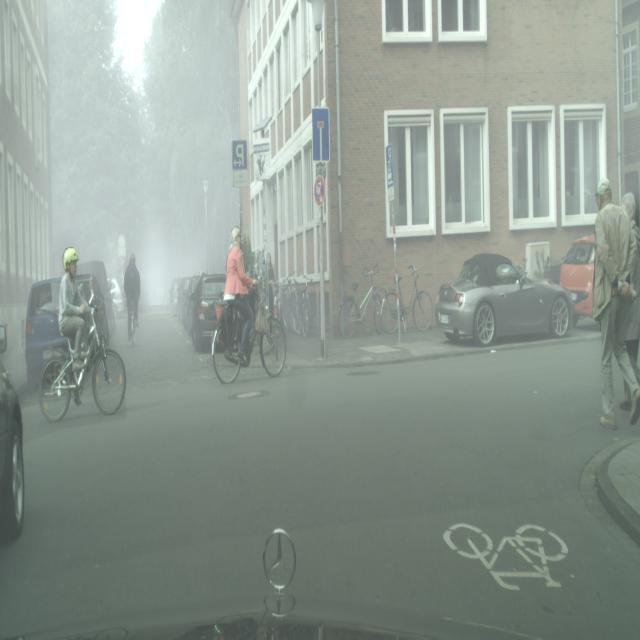bus: (434, 252, 574, 347), (24, 274, 116, 389), (0, 352, 26, 542), (558, 236, 597, 328), (187, 274, 227, 351), (178, 275, 198, 327), (172, 278, 187, 320), (108, 278, 123, 316)
car: (38, 247, 126, 421), (212, 223, 286, 382), (338, 263, 393, 338), (382, 262, 434, 332), (124, 252, 141, 345), (292, 274, 310, 336)
person: (592, 178, 640, 429), (621, 186, 640, 398)
